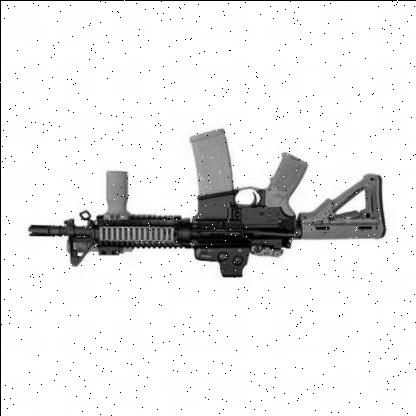rifle: (20, 106, 396, 326)
